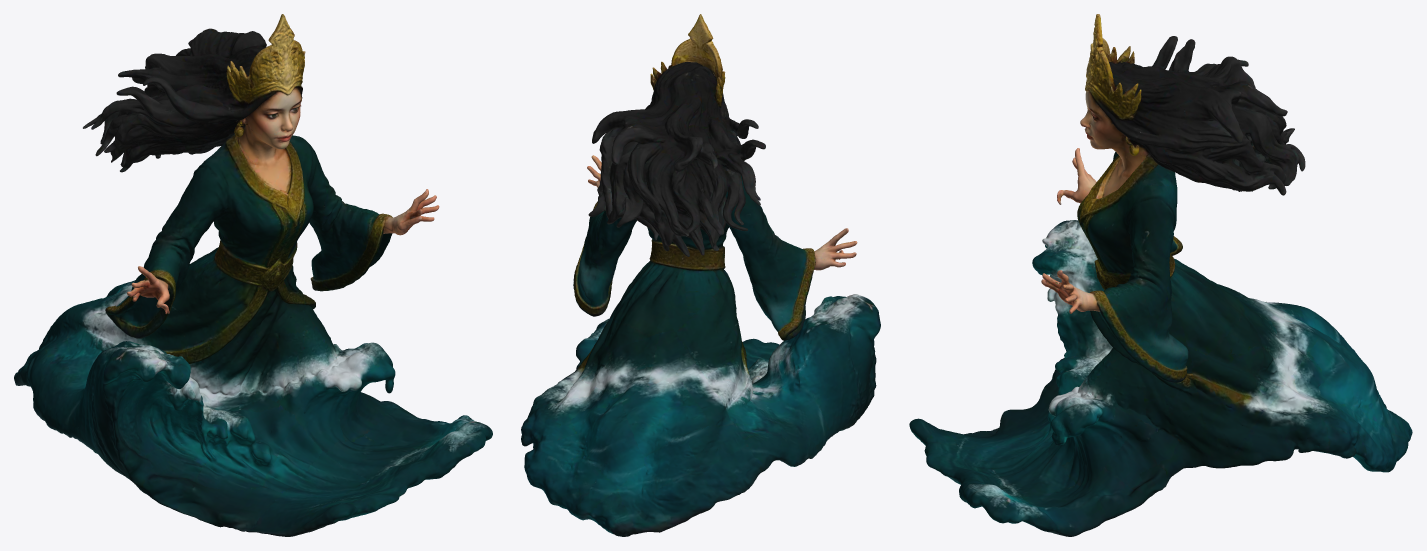
Rendered from lake-guardian.glb.
3 views of the same model, side by side, from view 1: azimuth 30°, elevation 25°; view 2: azimuth 150°, elevation 25°; view 3: azimuth 270°, elevation 25° (orthographic). The views are drawn at different scales.
Size of the model in its own units: 1.52 by 1.9 by 1.86.
Materials: 1 (1 with a texture image).
